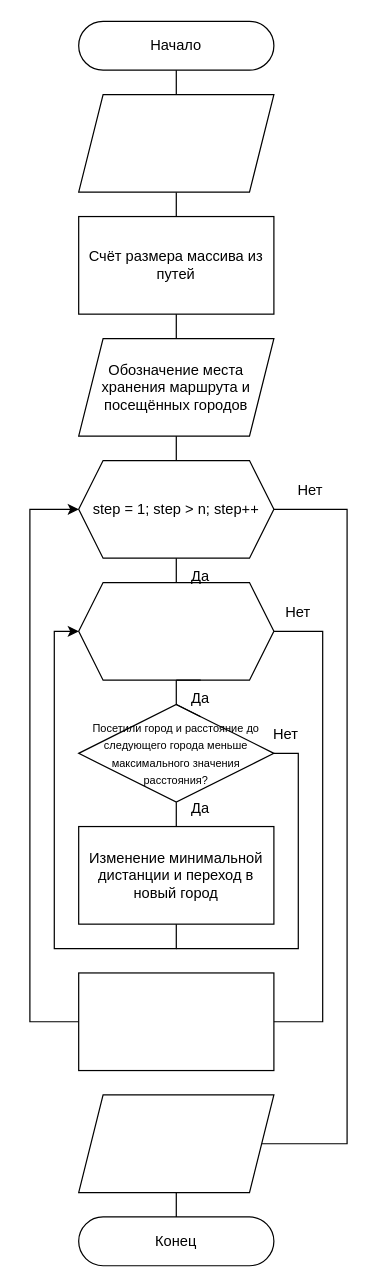
Image size: 370x1287. Some labels were removed from this diagram. Here are the shapes that lost their labels. From the top down, the box of each, then its label:
(77, 93, 274, 192): Информация о городах и путях
(77, 581, 274, 680): i = 0; i < n; i++
(77, 972, 274, 1071): Отметка города посещённым, добавление в маршрут и переход в новый город
(77, 1094, 274, 1193): Вывод данных
